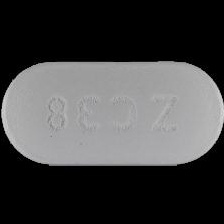68084-269: (0, 0, 224, 224)
